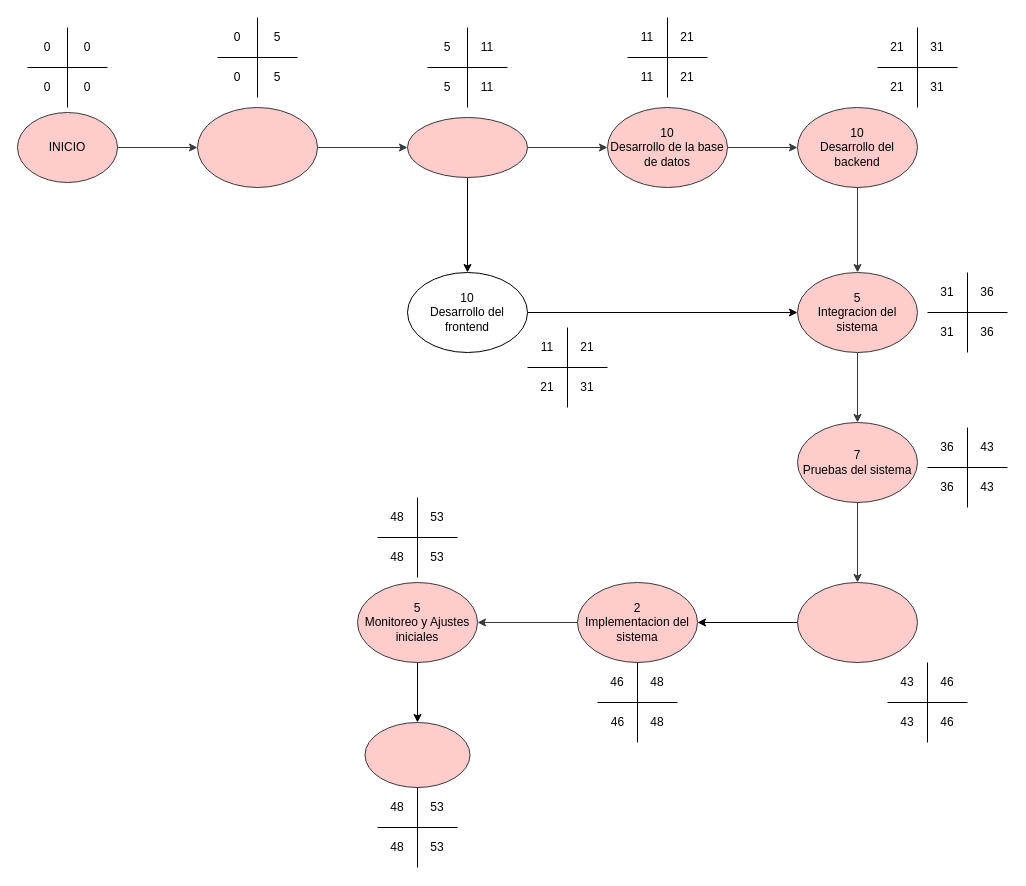
Some shapes in this 1026 by 886 pixel diagram are drawn without their labels. Here are the shapes that lost their labels. From the top down, the centre of each, then its label:
At (x=257, y=147): "5 Analisis de requerimientos".
At (x=467, y=147): "7 Diseño del SIstema".
At (x=857, y=622): "3 Capacitacion de usuarios".
At (x=417, y=755): "FIN".
